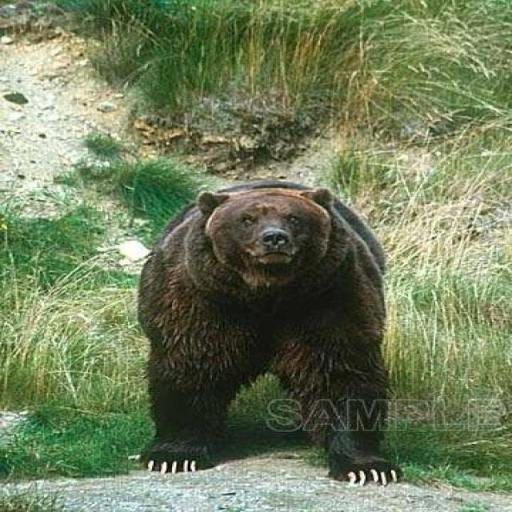Bear: (128, 178, 402, 486)
